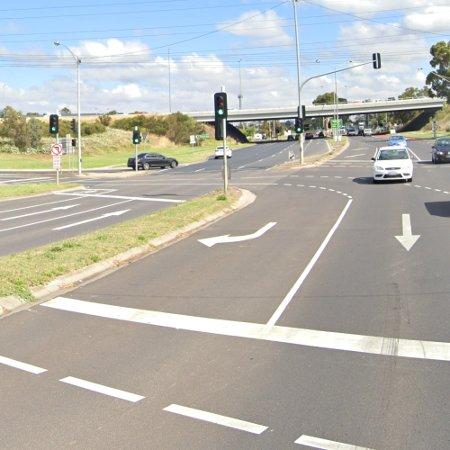traffic lights: (49, 114, 58, 134)
